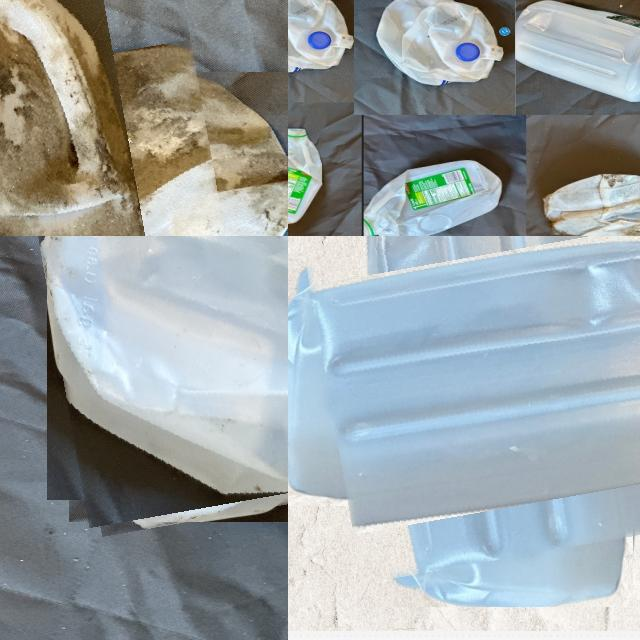milk-jug: (314, 236, 640, 570), (43, 236, 288, 525), (0, 0, 228, 236), (521, 0, 640, 97), (365, 149, 495, 236), (374, 0, 502, 85), (543, 178, 640, 236), (288, 0, 348, 80), (288, 123, 326, 226)
